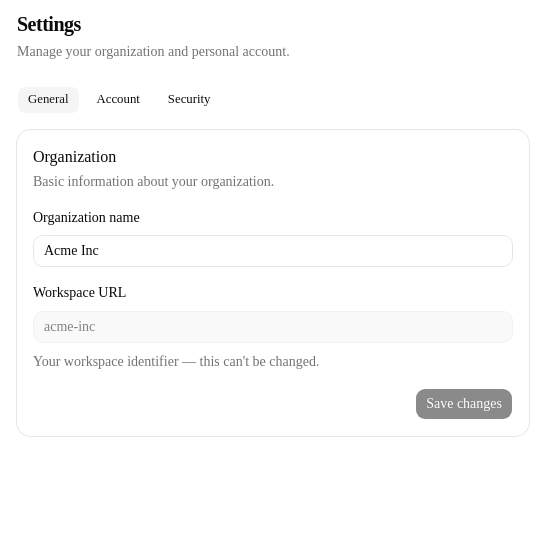
Scenario: SettingsPage › switches to the Security tab and validates the password form before submitting
expect the field showing "Acme Inc" is shown: met, box [33,235,513,267]
Click the button "Security" at (189, 100), box [157,86,222,114]
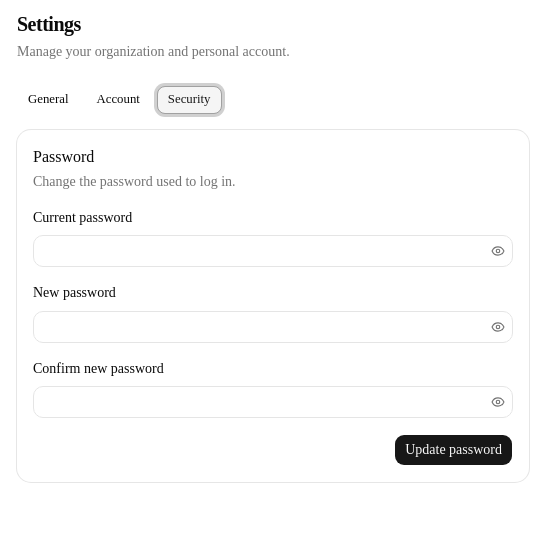
Type "OldPassw0rd1" into the password field labelled "Current password" at (273, 251), box [33,235,513,267]
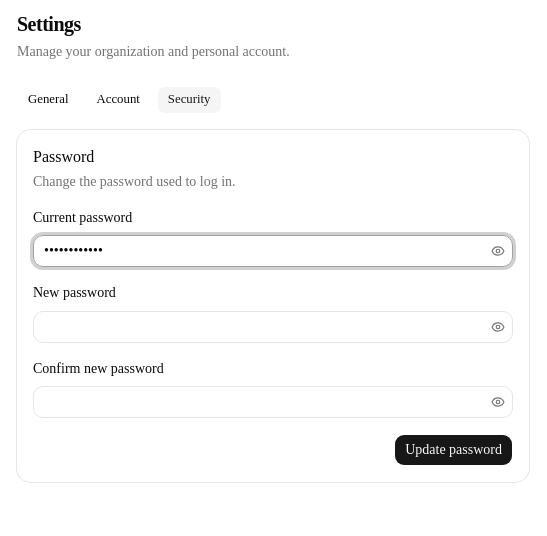
Type "short" into the password field labelled "New password" at (273, 326), box [33,310,513,342]
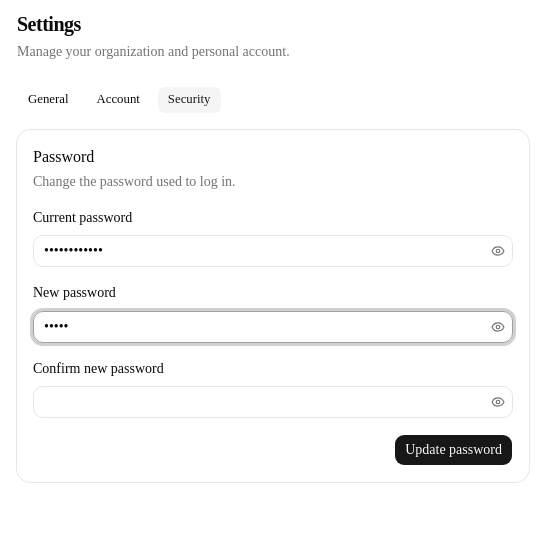
Type "short" into the password field labelled "Confirm new password" at (273, 402), box [33,386,513,418]
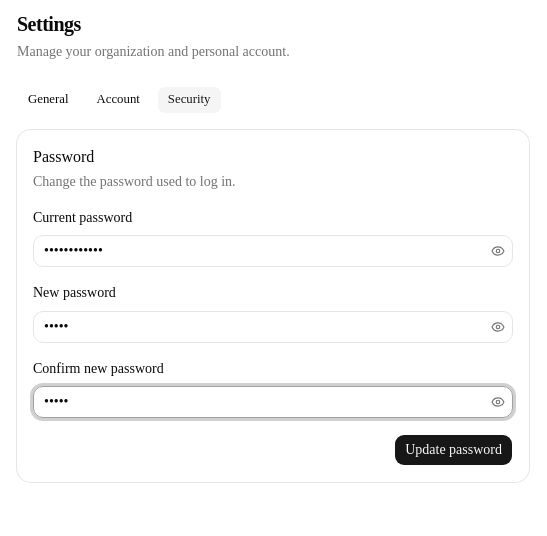
Click the button "Update password" at (454, 450), box [394,434,513,466]
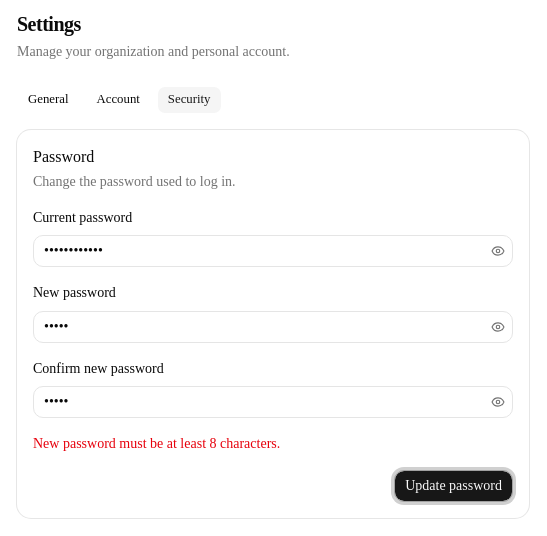
expect the text "New password must be at least 8 characters." is shown: met, box [33,436,280,451]
